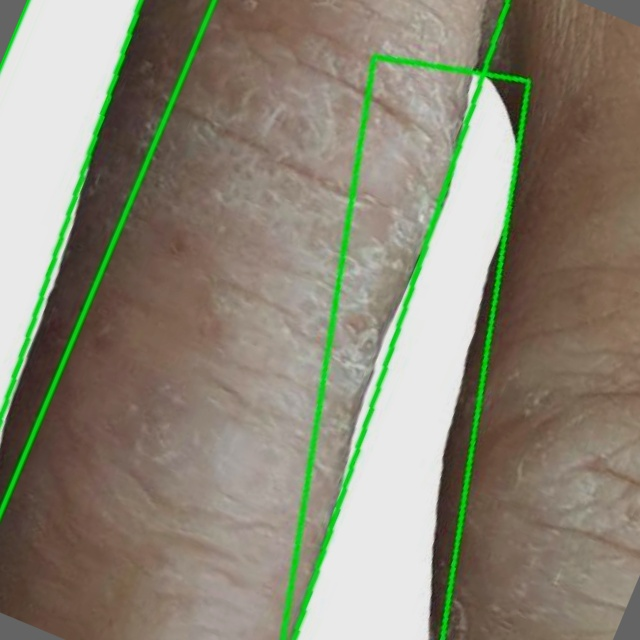Contact Dermatitis: (0, 0, 508, 639), (283, 57, 529, 639)
